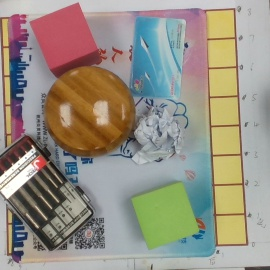card: (130, 13, 186, 100)
chess: (44, 64, 135, 160)
